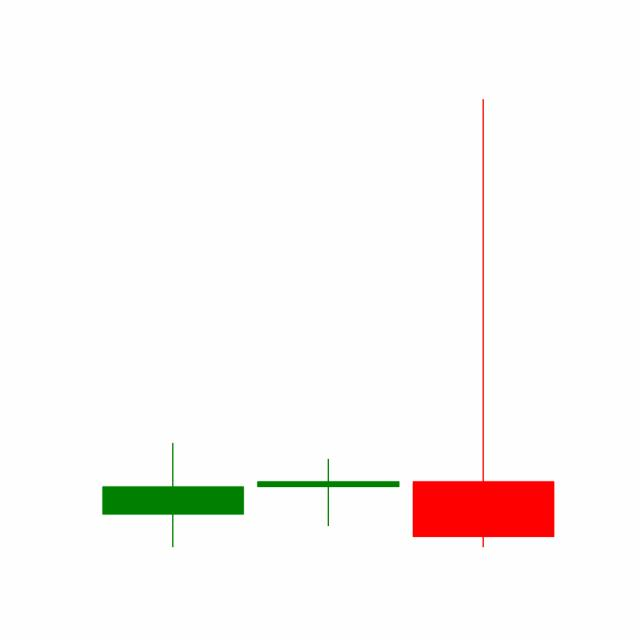Spinning Top: (249, 457, 406, 527)
